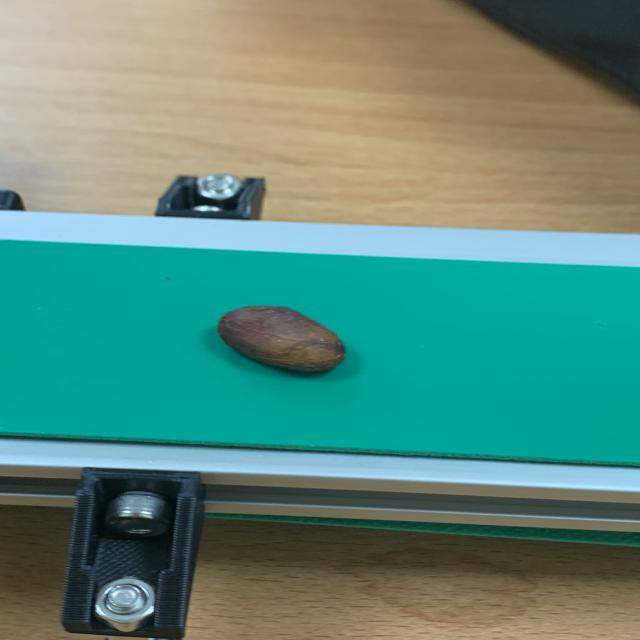Fine_cocoabeans: (126, 294, 484, 436)
